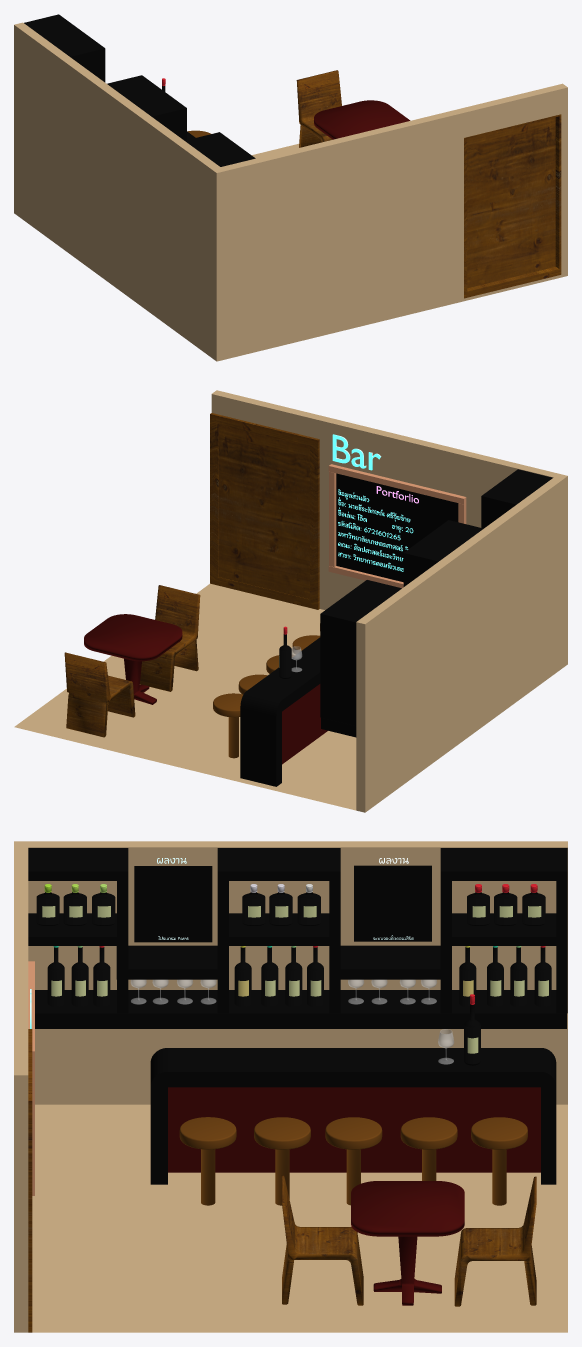
File: BAR.glb
3 views of the same model, one above another, from view 1: azimuth 30°, elevation 25°; view 2: azimuth 150°, elevation 25°; view 3: azimuth 270°, elevation 25° (orthographic). The views are drawn at different scales.
Visible parts, largest first — view 1: Plane, door, Cube.002, border, Plane.003, Cube.004; view 2: Plane, door, Cube.002, Plane.012, Cube, border, Cube.004, Plane.003, Cube.001, Cube.006, Plane.001, Text.003 (+2 smaller); view 3: Plane, Cube.002, Plane.001, Cube, Cube.003, Plane.003, Plane.025, Plane.027, Cube.004, Cube.001, Circle, Circle.004 (+26 smaller).
Boxes of the visible parts, x1,y1,x2,y2 form: Plane: [14, 22, 567, 361]; door: [467, 117, 555, 288]; Cube.002: [24, 14, 255, 166]; border: [464, 114, 561, 298]; Plane.003: [314, 100, 410, 139]; Cube.004: [296, 70, 341, 147]; Plane: [14, 390, 567, 812]; door: [218, 424, 309, 599]; Cube.002: [320, 469, 552, 725]; Plane.012: [336, 473, 458, 582]; Cube: [240, 637, 320, 786]; border: [210, 413, 319, 609]; Cube.004: [64, 652, 135, 737]; Plane.003: [84, 614, 182, 704]; Cube.001: [140, 585, 200, 691]; Cube.006: [328, 464, 466, 588]; Plane.001: [282, 684, 327, 764]; Text.003: [338, 489, 413, 571]; Plane: [14, 841, 567, 1332]; Cube.002: [28, 848, 567, 1013]; Plane.001: [168, 1087, 540, 1172]; Cube: [150, 1048, 556, 1184]; Cube.003: [35, 990, 566, 1028]; Plane.003: [351, 1181, 464, 1305]; Plane.025: [134, 866, 212, 942]; Plane.027: [354, 865, 431, 941]; Cube.004: [454, 1176, 536, 1306]; Cube.001: [281, 1175, 363, 1305]; Circle: [179, 1117, 236, 1205]; Circle.004: [471, 1117, 527, 1205].
Bounding box in the file's own units: 19.5 × 10.01 × 19.5.
Materials: 90 (3 with a texture image).
